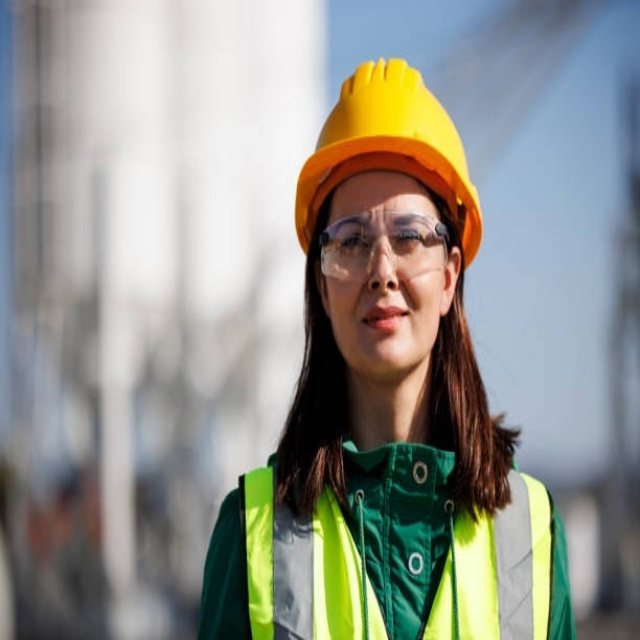Gafas: (316, 208, 452, 280)
Sin_mascara: (353, 293, 414, 348)
